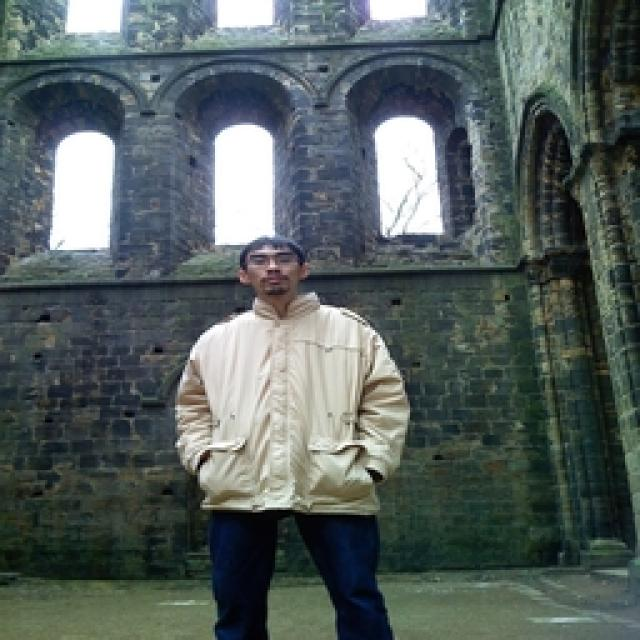Abbey: (1, 6, 636, 238)
